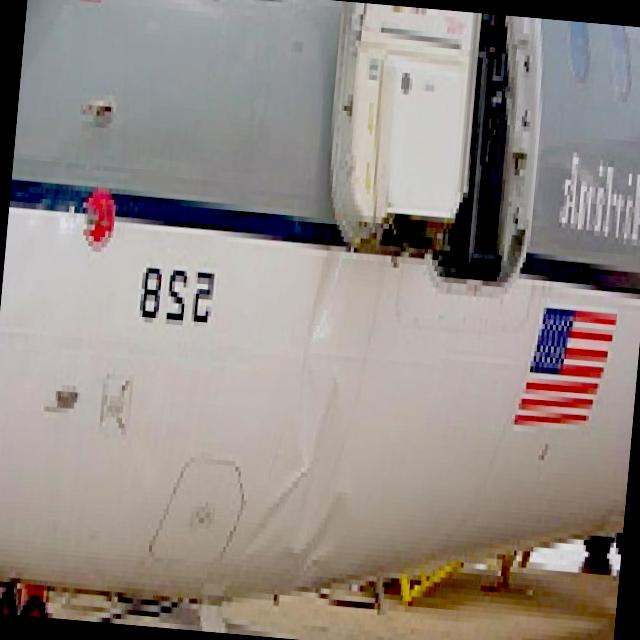dent: (238, 254, 382, 585)
